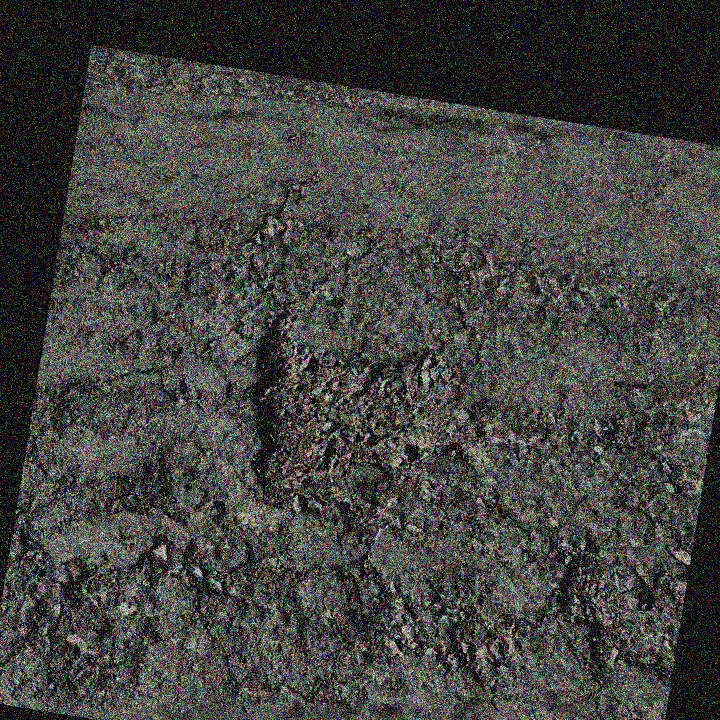pothole: (219, 302, 477, 535), (542, 537, 644, 667)
